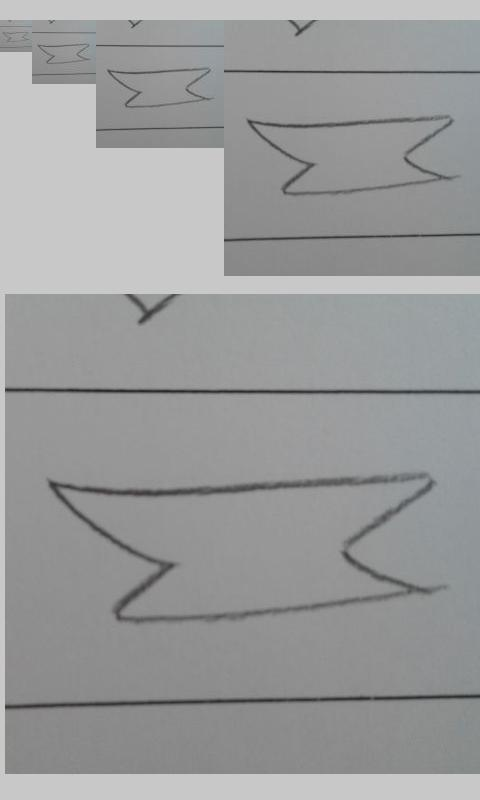edit_text: (44, 472, 442, 625), (246, 115, 456, 196), (105, 67, 214, 109), (38, 43, 90, 64), (3, 31, 30, 42)
